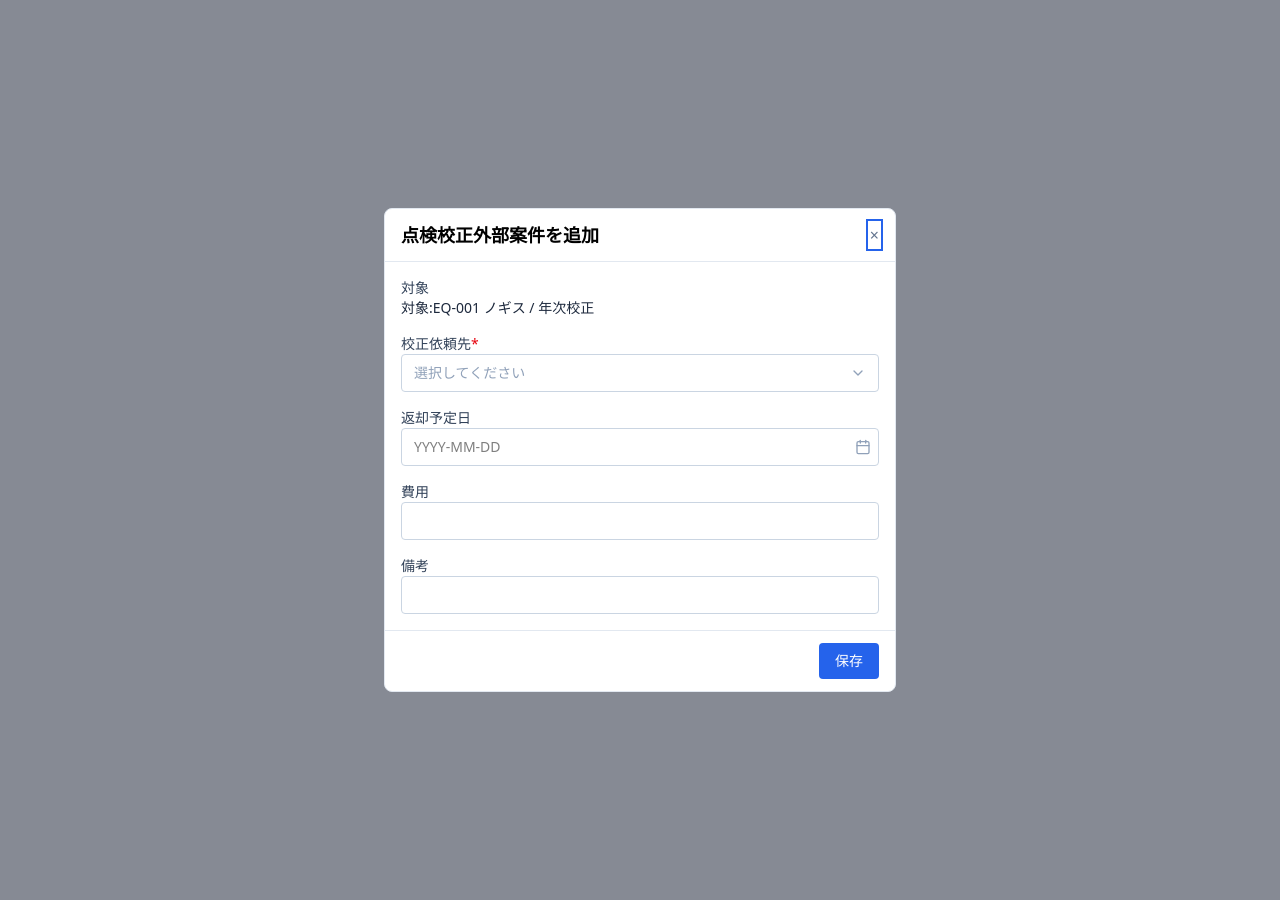
Test case: ServiceOrderModal › 校正依頼先未選択のまま「保存」を押すとエラー表示されストアが変化しない
The image size is (1280, 900).
Click the button "保存": [849, 661] box top-left (819, 643), bottom-right (879, 679)
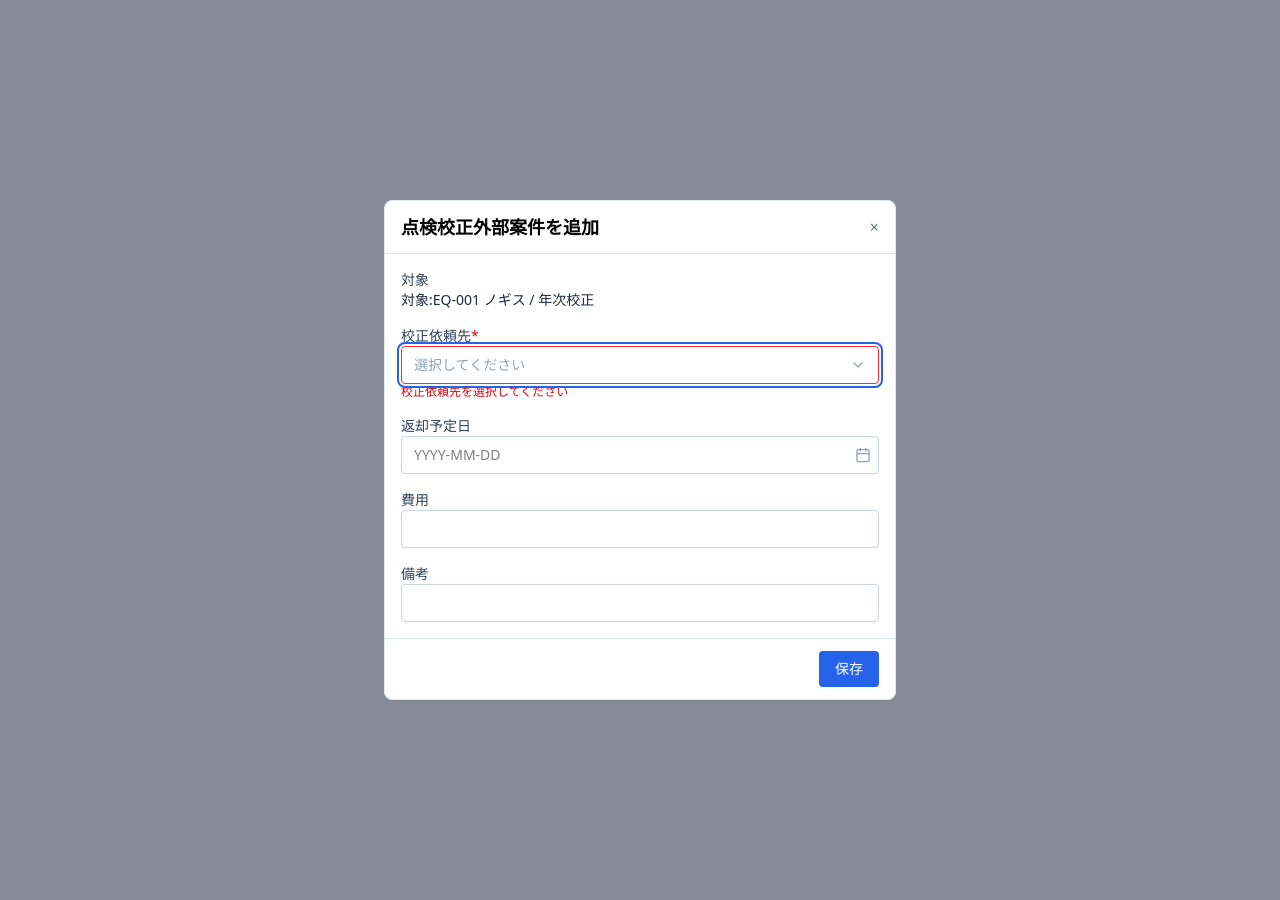
Expected: the text "校正依頼先を選択してください" is shown, top-left (401, 383), bottom-right (568, 400)
